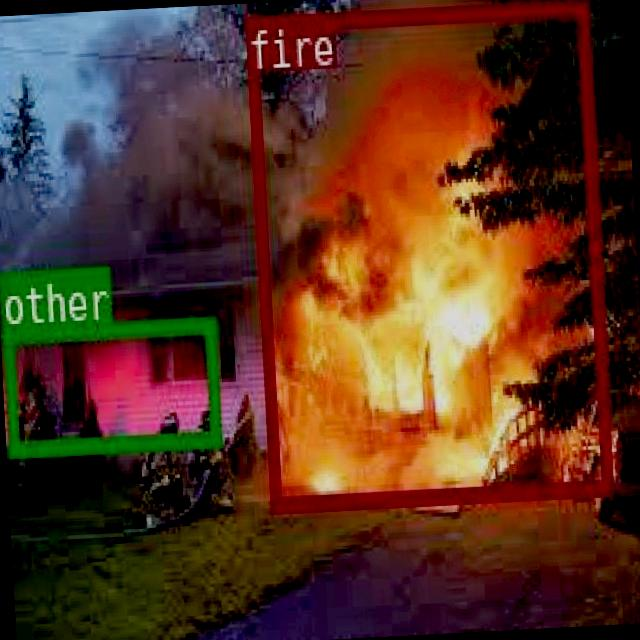fire: (244, 0, 609, 511)
